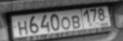license-plateSW: (11, 5, 111, 39)
